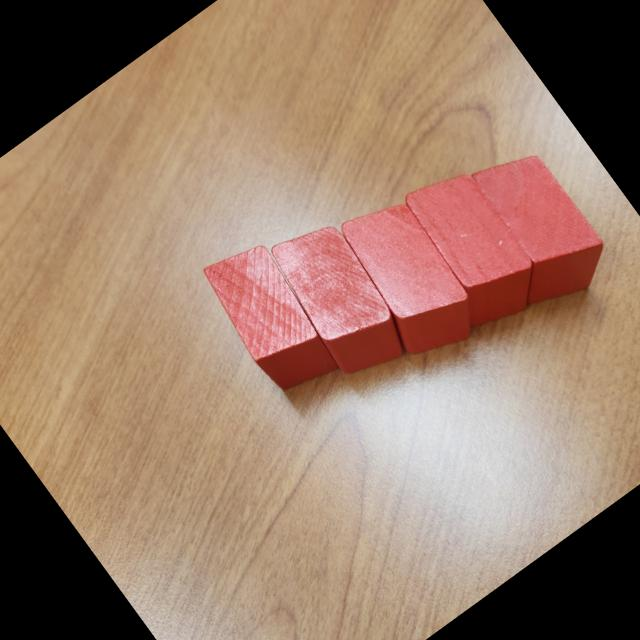red: (444, 132, 621, 324), (321, 184, 493, 374), (384, 154, 556, 343), (258, 208, 422, 390), (191, 230, 349, 406)
